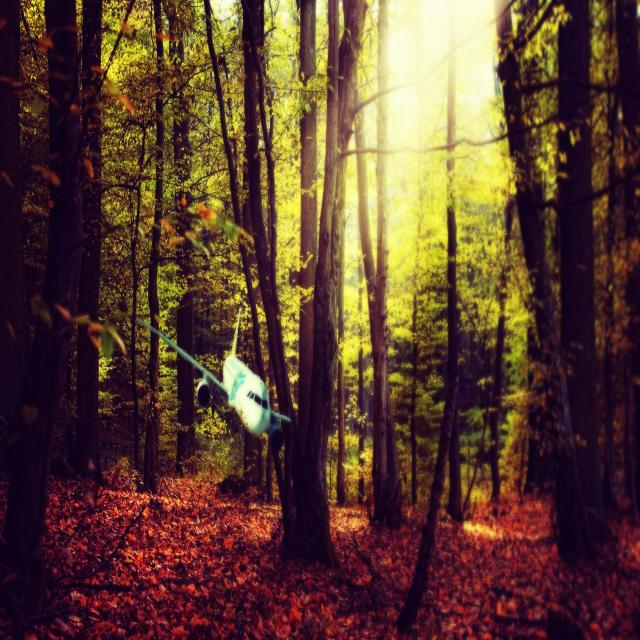airplane: (134, 308, 292, 451)
